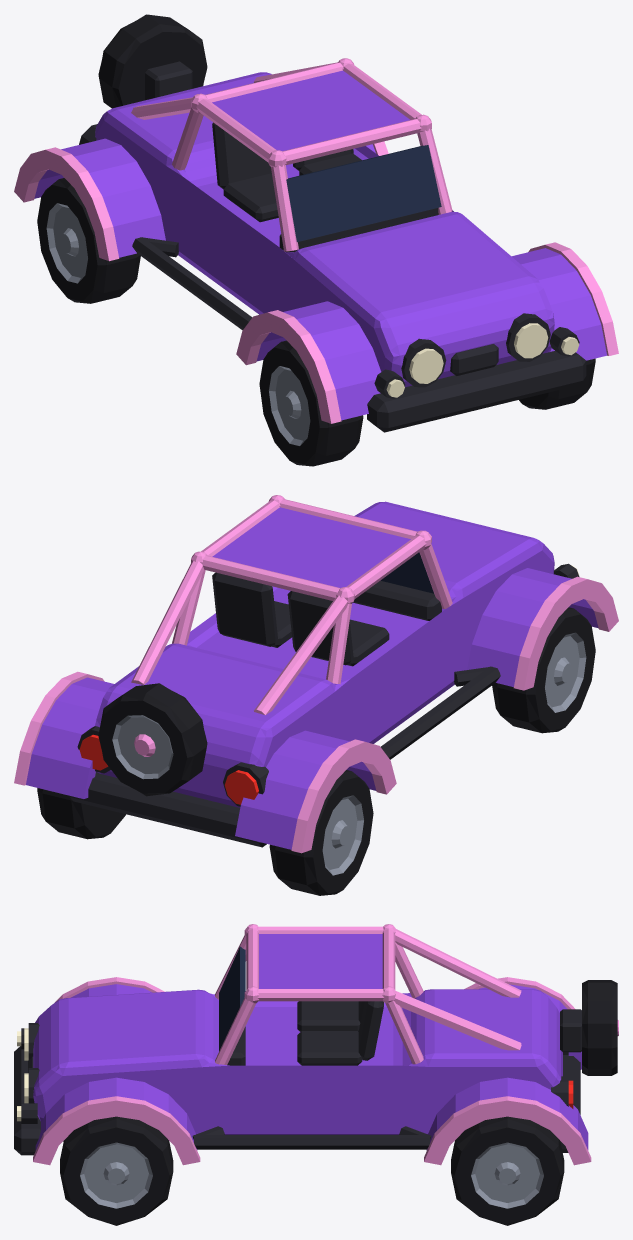
Rendered from Car_grape.fbx.
3 views of the same model, one above another, from view 1: azimuth 30°, elevation 25°; view 2: azimuth 150°, elevation 25°; view 3: azimuth 270°, elevation 25° (orthographic). The views are drawn at different scales.
Visible parts, largest first — view 1: Body, Wheel_FL, Wheel_RL, Wheel_FR; view 2: Body, Wheel_RL, Wheel_FL, Wheel_RR; view 3: Body, Wheel_RR, Wheel_FR.
Boxes of the visible parts, <box> form: Body: <box>14,14,618,432</box>; Wheel_FL: <box>259,340,363,466</box>; Wheel_RL: <box>37,178,140,303</box>; Wheel_FR: <box>519,358,595,409</box>; Body: <box>14,495,618,853</box>; Wheel_RL: <box>269,770,373,895</box>; Wheel_FL: <box>492,607,595,733</box>; Wheel_RR: <box>37,788,125,839</box>; Body: <box>14,924,618,1165</box>; Wheel_RR: <box>451,1116,564,1225</box>; Wheel_FR: <box>60,1116,173,1225</box>.
Size of what is drawn, in the model's own units: 1.98 by 1.6 by 4.1.
